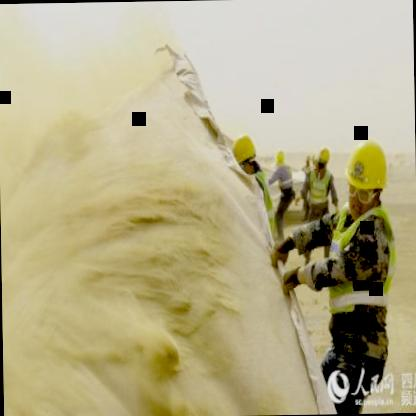helmet: (342, 132, 392, 218), (232, 132, 260, 178), (313, 144, 330, 173)
